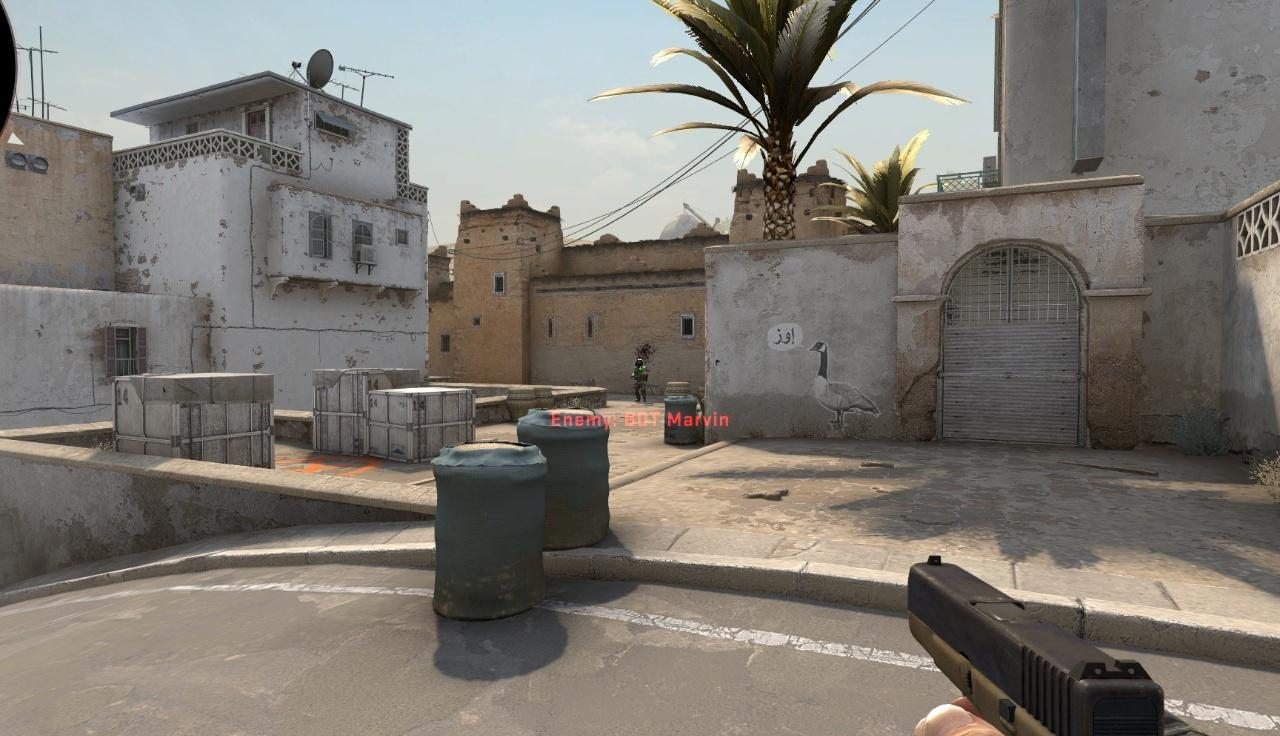ct: (633, 359, 648, 402)
cthead: (637, 359, 643, 366)
pistol: (903, 553, 1220, 736)
